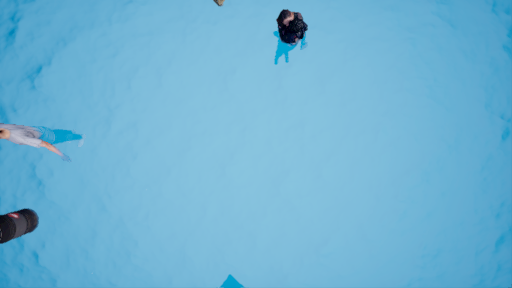person: (3, 117, 84, 160), (255, 11, 320, 63)
